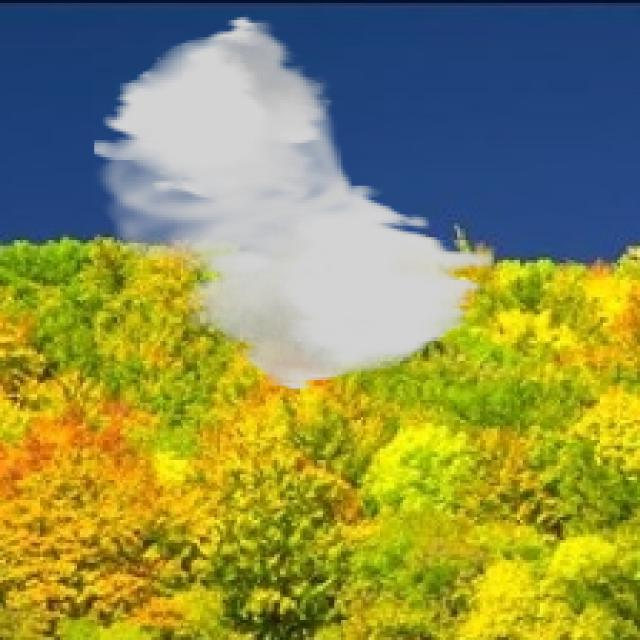smoke: (92, 14, 494, 392)
